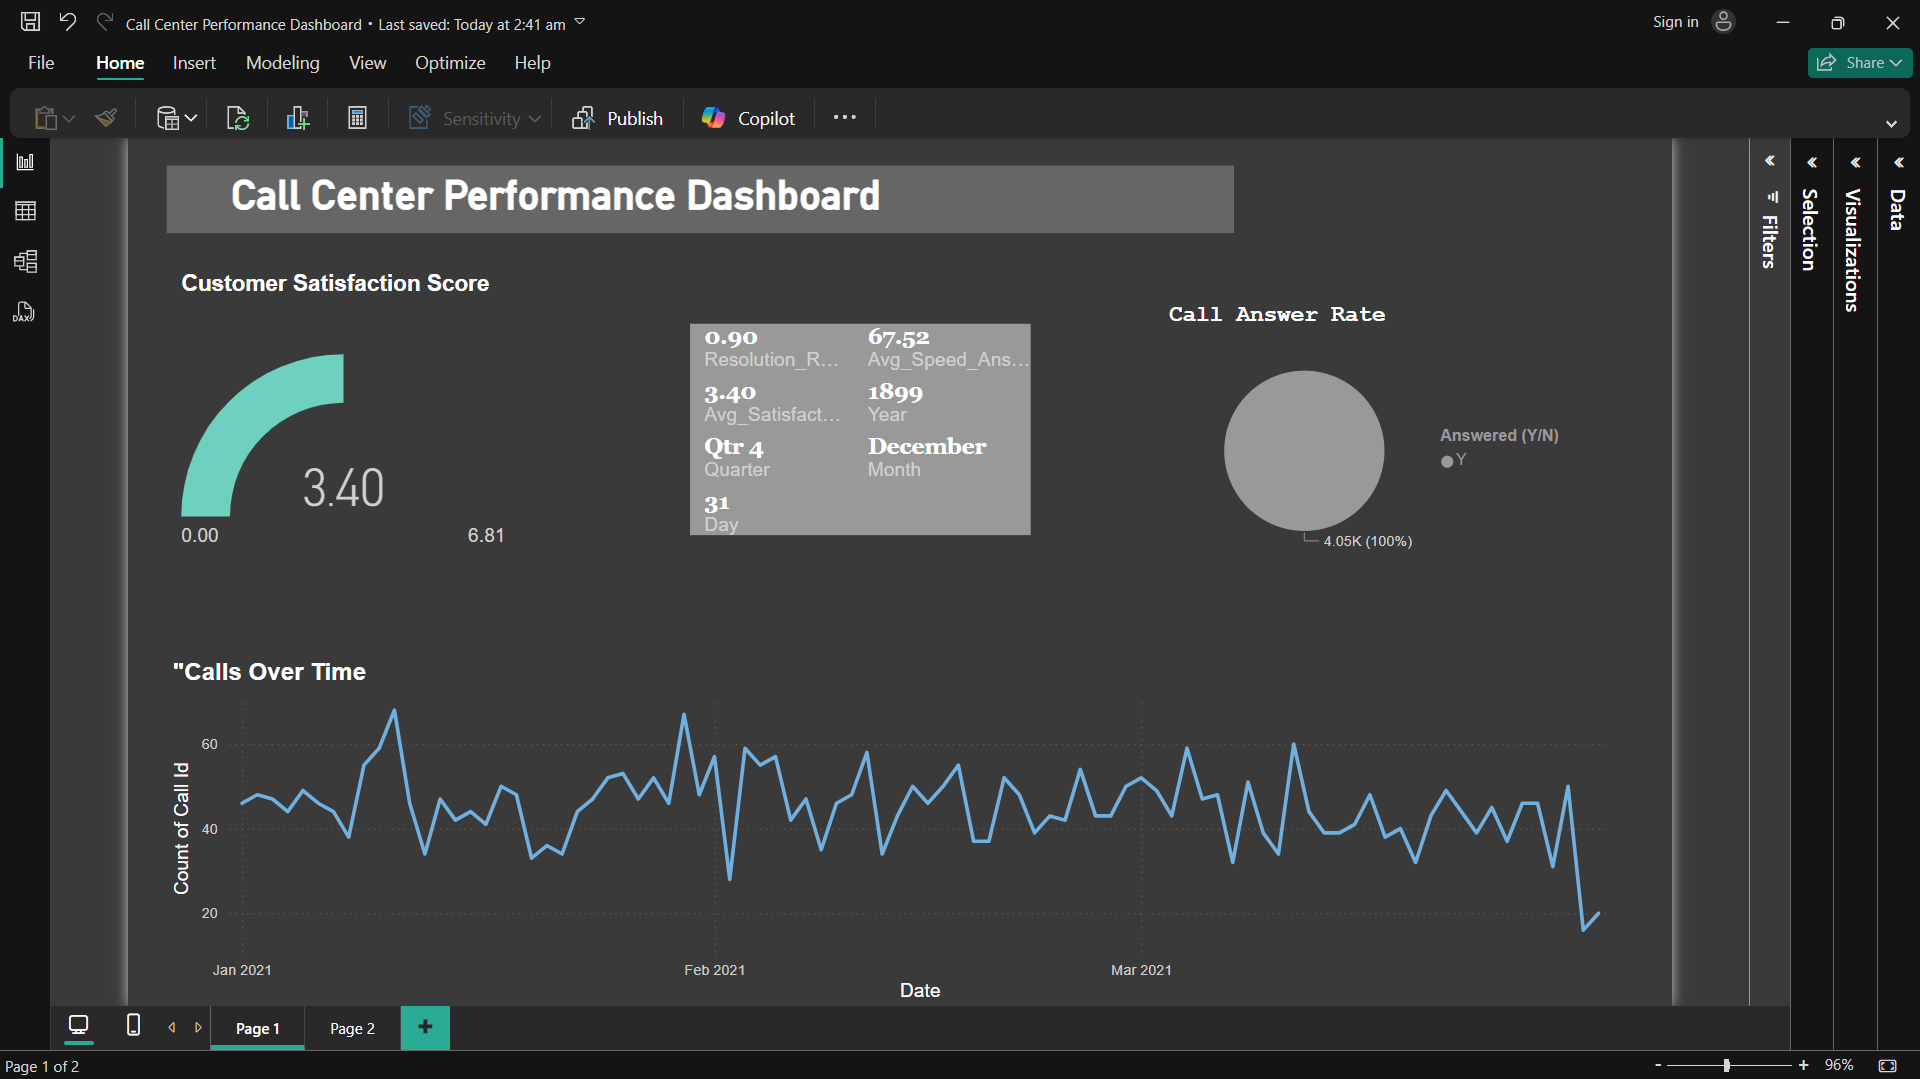

This screenshot's page, from the dashboard's own definition file:
{"tool":"powerbi","page":{"name":"Page 1","canvas":[1280,720],"ordinal":0},"visuals":[{"type":"gauge","title":"Customer Satisfaction Score","fields":{"Y":["Sheet1.Avg_Satisfaction"]},"box":[39.2,110.1,278.9,280.4],"z":0},{"type":"multiRowCard","fields":{"Values":["Sheet1.Resolution_Rate","Sheet1.Avg_Speed_Answer","Sheet1.Avg_Satisfaction","Sheet1.AvgTalkDuration.Variation.Date Hierarchy.Year","Sheet1.AvgTalkDuration.Variation.Date Hierarchy.Quarter","Sheet1.AvgTalkDuration.Variation.Date Hierarchy.Month","Sheet1.AvgTalkDuration.Variation.Date Hierarchy.Day"]},"box":[461.3,149.3,292.5,202],"z":1000},{"type":"pieChart","title":"Call Answer Rate","fields":{"Category":["Sheet1.Answered (Y/N)"],"Y":["CountNonNull(Sheet1.Call Id)"]},"box":[857.9,137.2,346.8,224.6],"z":1001},{"type":"lineChart","title":"\"Calls Over Time","fields":{"Y":["CountNonNull(Sheet1.Call Id)"],"Category":["Sheet1.Date"]},"box":[31.7,431.2,1218.2,289.5],"z":1002},{"type":"textbox","box":[31.7,22.6,885,55.8],"z":1003}]}

Visuals, with their boxes on the page's 1280x720 design canvas (x1, y1, x2, y2). These are canvas units, not pixel positions in the 1920x1079 screenshot, which may show the page scaled, cropped or inside an application window:
"Customer Satisfaction Score" gauge: x1=39 y1=110 x2=318 y2=390
multiRowCard - Sheet1.Resolution_Rate x Sheet1.Avg_Speed_Answer: x1=461 y1=149 x2=754 y2=351
"Call Answer Rate" pieChart: x1=858 y1=137 x2=1205 y2=362
""Calls Over Time" lineChart: x1=32 y1=431 x2=1250 y2=721
textbox: x1=32 y1=23 x2=917 y2=78
